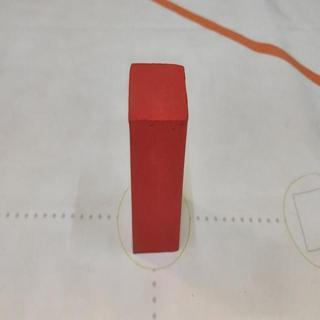redbox: (127, 61, 189, 253)
